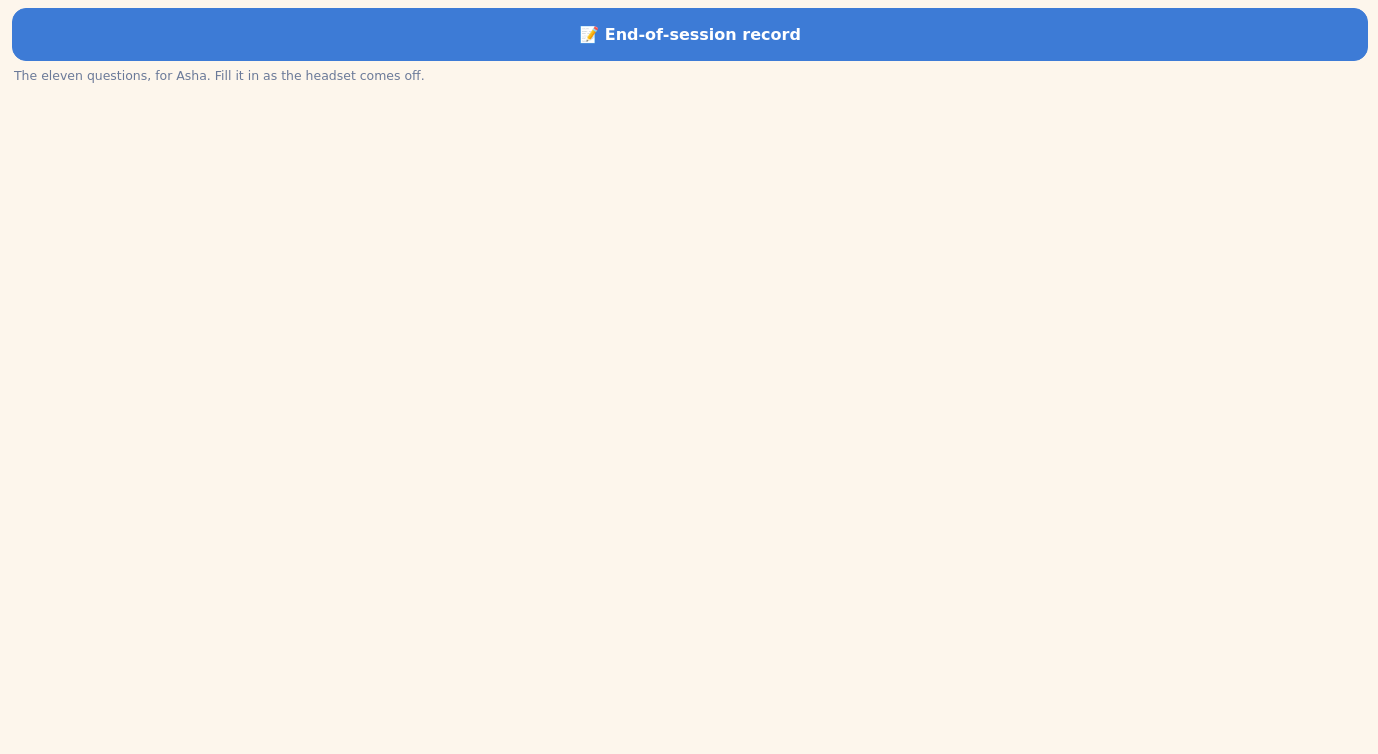
Scenario: SessionExperienceForm › shows what was written last time, so the change question can be answered
The image size is (1378, 754).
What coordinates should you click on to do the following:
click the button "📝 End-of-session record"
I would click on:
 (690, 34)
Its box is [12, 8, 1368, 61].
(page scrolled)
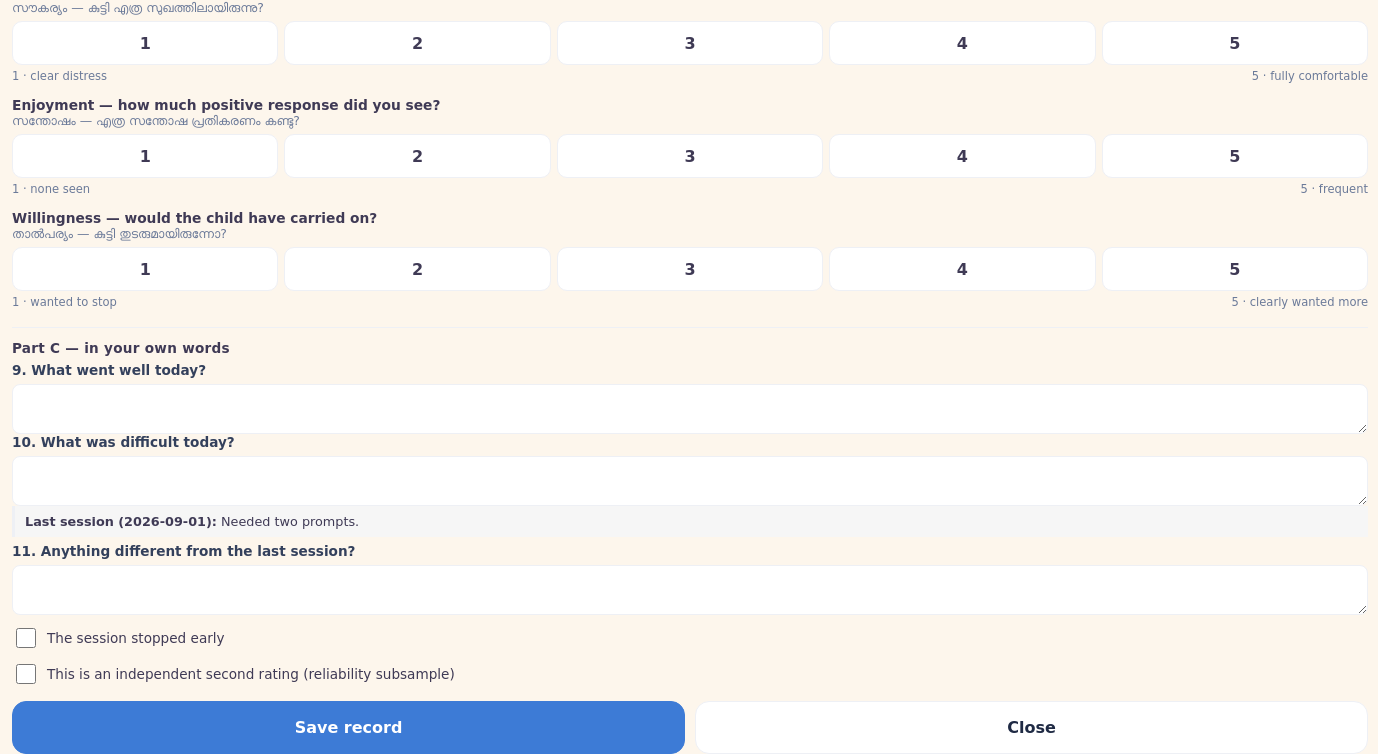
Expected: the text "Last session (2026-09-01): Needed two prompts." is shown, [12, 506, 1368, 537]
